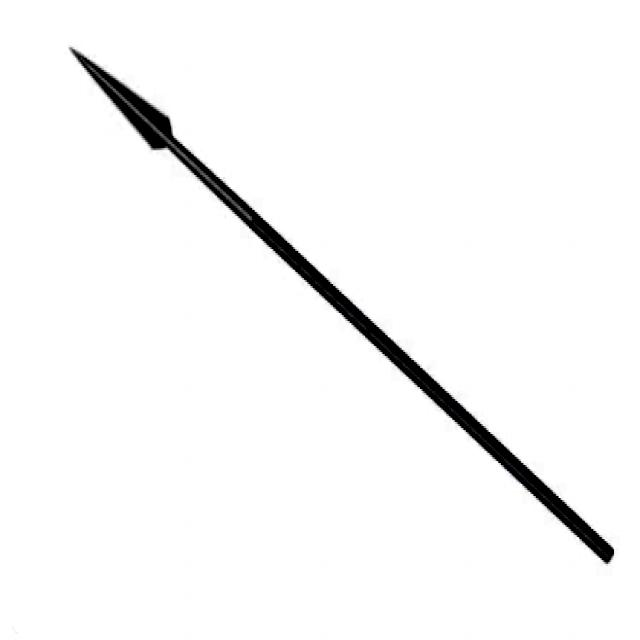spear: (59, 33, 622, 582)
